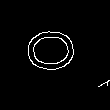O_E: (25, 32, 85, 78)
